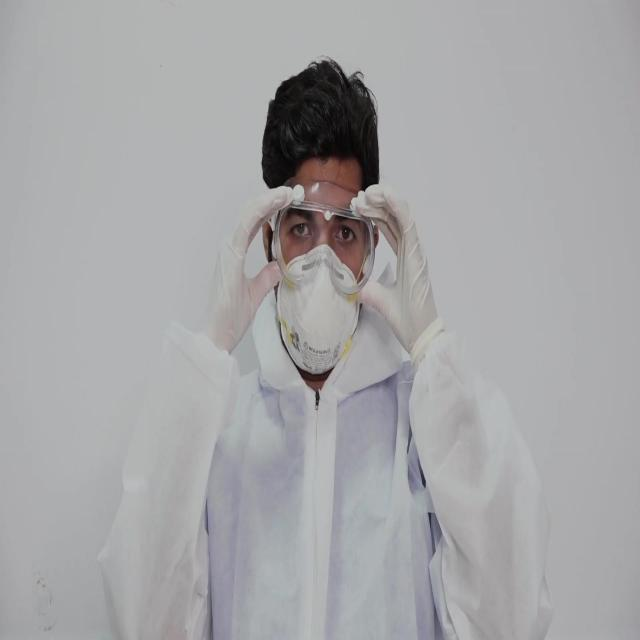Gloves: (199, 186, 294, 355), (356, 184, 438, 357)
Goggles: (270, 178, 376, 300)
